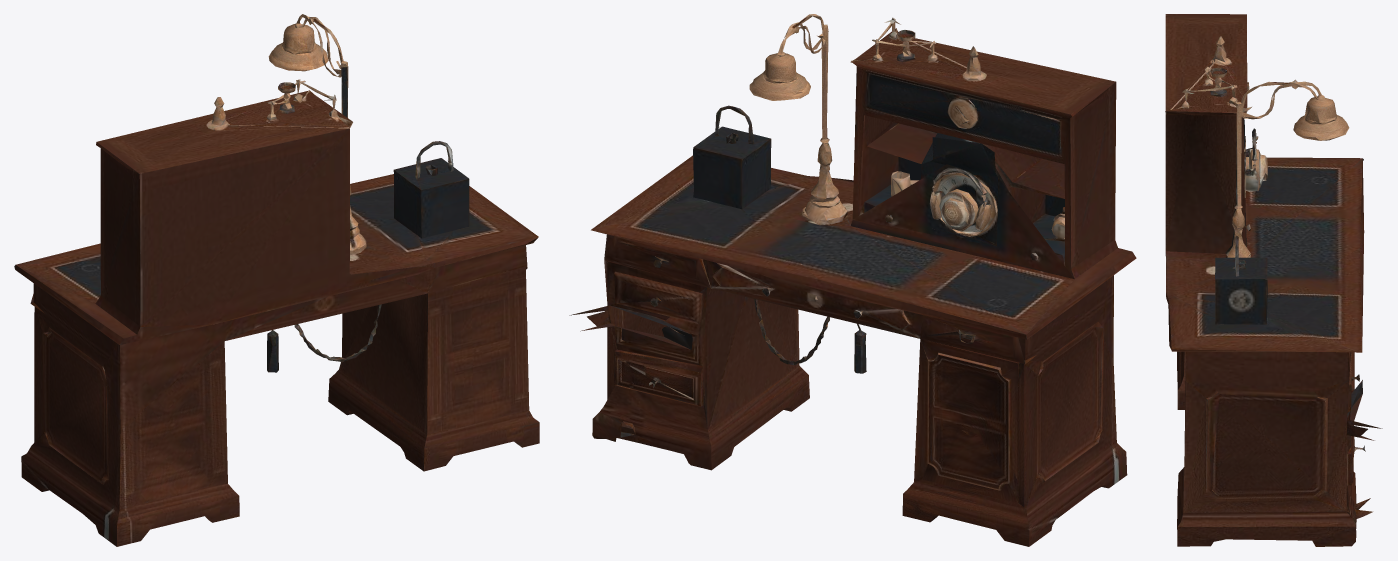
File: mj-marconi-operator-desk.glb
The picture shows the model from 3 angles, left to right: view 1: azimuth 30°, elevation 25°; view 2: azimuth 150°, elevation 25°; view 3: azimuth 270°, elevation 25°; orthographic projection. The views are drawn at different scales.
Parts seen in each view (by area): view 1: mj-marconi-operator-desk; view 2: mj-marconi-operator-desk; view 3: mj-marconi-operator-desk.
Part boxes in pixels (x1,y1,x2,y2): mj-marconi-operator-desk: (14,14,539,546); mj-marconi-operator-desk: (569,14,1136,546); mj-marconi-operator-desk: (1165,14,1382,546).
Bounding box in the file's own units: 1.59 × 1.47 × 0.7419.
Materials: 1 (1 with a texture image).
